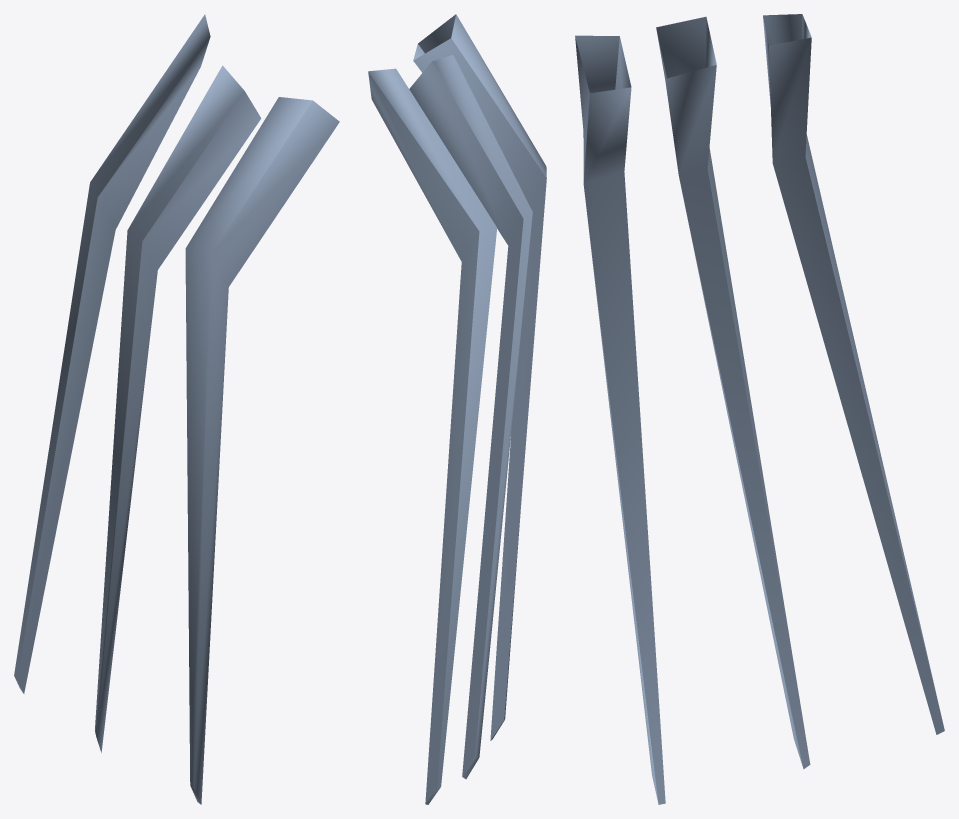
File: Gloves_Claws.fbx
3 renders of one model, left to right at view 1: azimuth 30°, elevation 25°; view 2: azimuth 150°, elevation 25°; view 3: azimuth 270°, elevation 25°, orthographic. The views are drawn at different scales.
Parts seen in each view (by area): view 1: Gloves_Claws.001; view 2: Gloves_Claws.001; view 3: Gloves_Claws.001.
Boxes of the visible parts, left/top/right/bottom form: Gloves_Claws.001: left=14, top=14, right=339, bottom=804; Gloves_Claws.001: left=368, top=14, right=546, bottom=804; Gloves_Claws.001: left=575, top=14, right=944, bottom=804.
Bounding box in the file's own units: 7.67 × 30.76 × 12.45.
